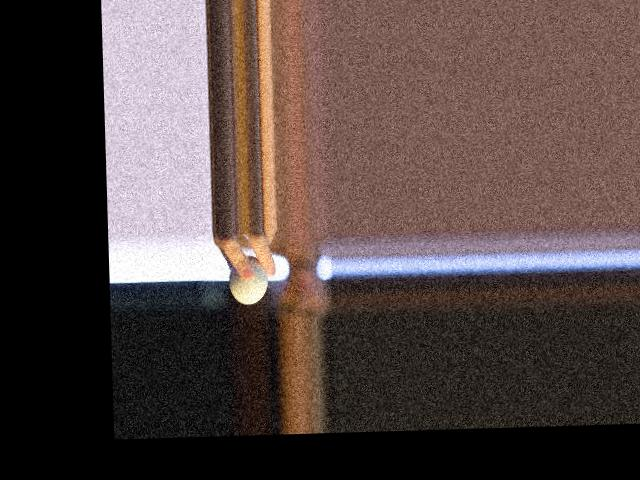egg: (229, 254, 269, 304)
